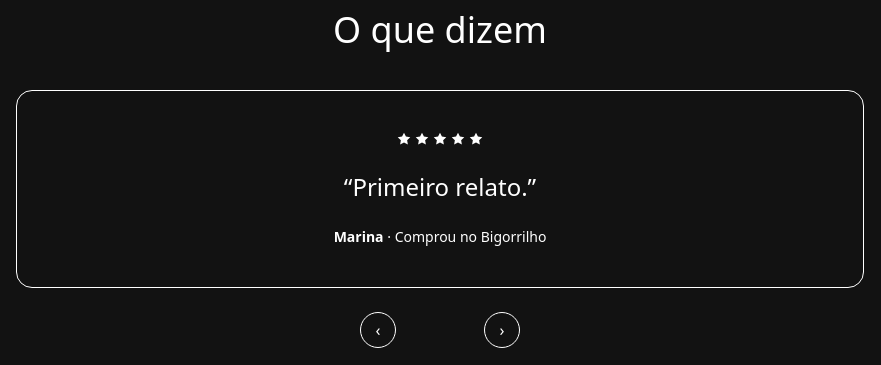
Test: TestimonialsSection › moves through testimonials with the arrows
Click the button named "próximo depoimento". click: [502, 330]
box: 484,312 -> 520,348
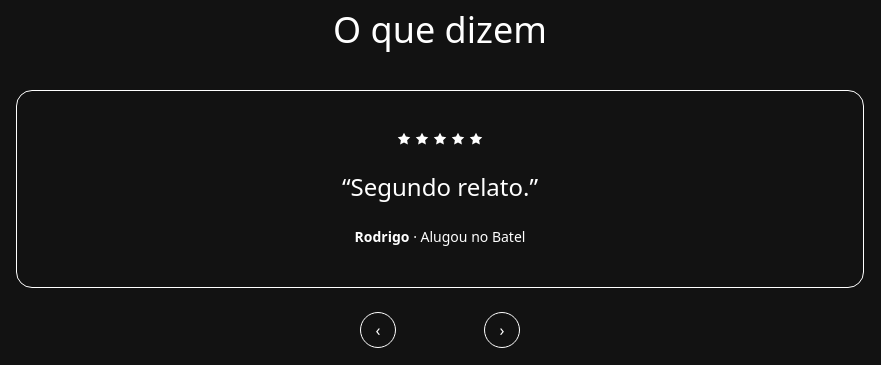
Expected: the picture named "4 de 5 estrelas" is shown, 396,131 -> 484,147
Expected: the text "“Segundo relato.”" is shown, 342,170 -> 538,203
Click the button named "depoimento anterior". click: [378, 330]
box: 360,312 -> 396,348
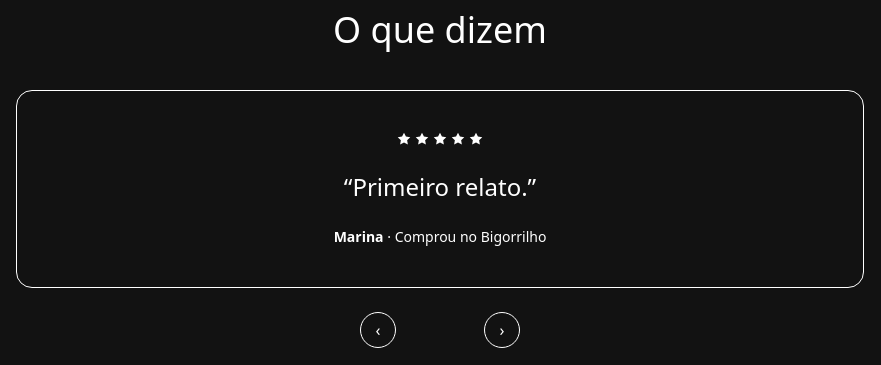
Expected: the text "“Primeiro relato.”" is shown, 344,170 -> 536,203
